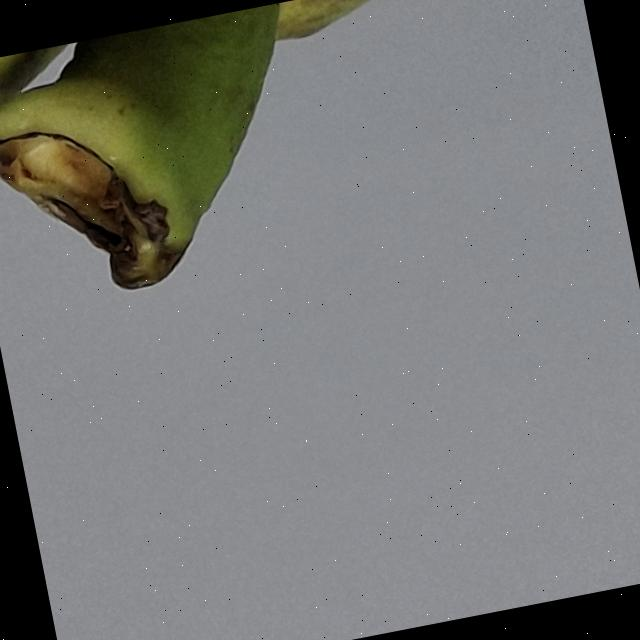mangosteen: (0, 0, 631, 366)
